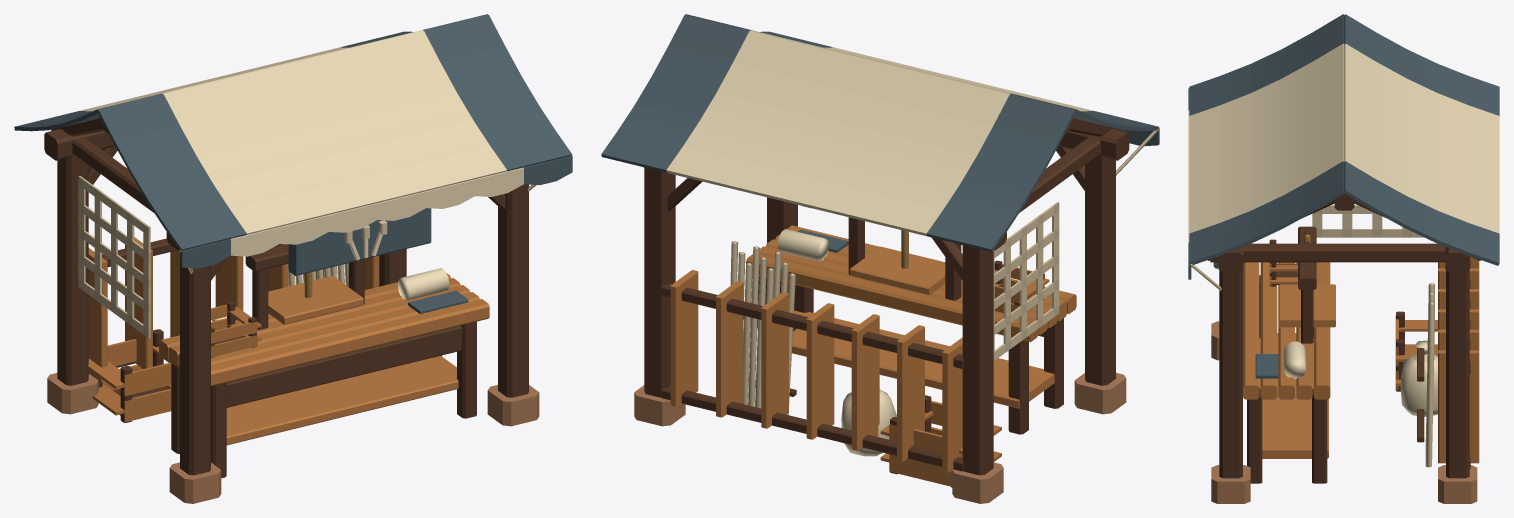
File: station_trade_reedhaven_a.glb
The picture shows the model from 3 angles, left to right: view 1: azimuth 30°, elevation 25°; view 2: azimuth 150°, elevation 25°; view 3: azimuth 270°, elevation 25°; orthographic projection. The views are drawn at different scales.
Parts seen in each view (by area): view 1: station_trade_reedhaven_a_workyard; view 2: station_trade_reedhaven_a_workyard; view 3: station_trade_reedhaven_a_workyard.
Boxes of the visible parts, box(x1,y1,x2,y2) form: station_trade_reedhaven_a_workyard: box(14, 14, 572, 503); station_trade_reedhaven_a_workyard: box(601, 14, 1159, 503); station_trade_reedhaven_a_workyard: box(1188, 14, 1499, 503).
Size of the model in its own units: 4.07 by 3.47 by 3.02.
